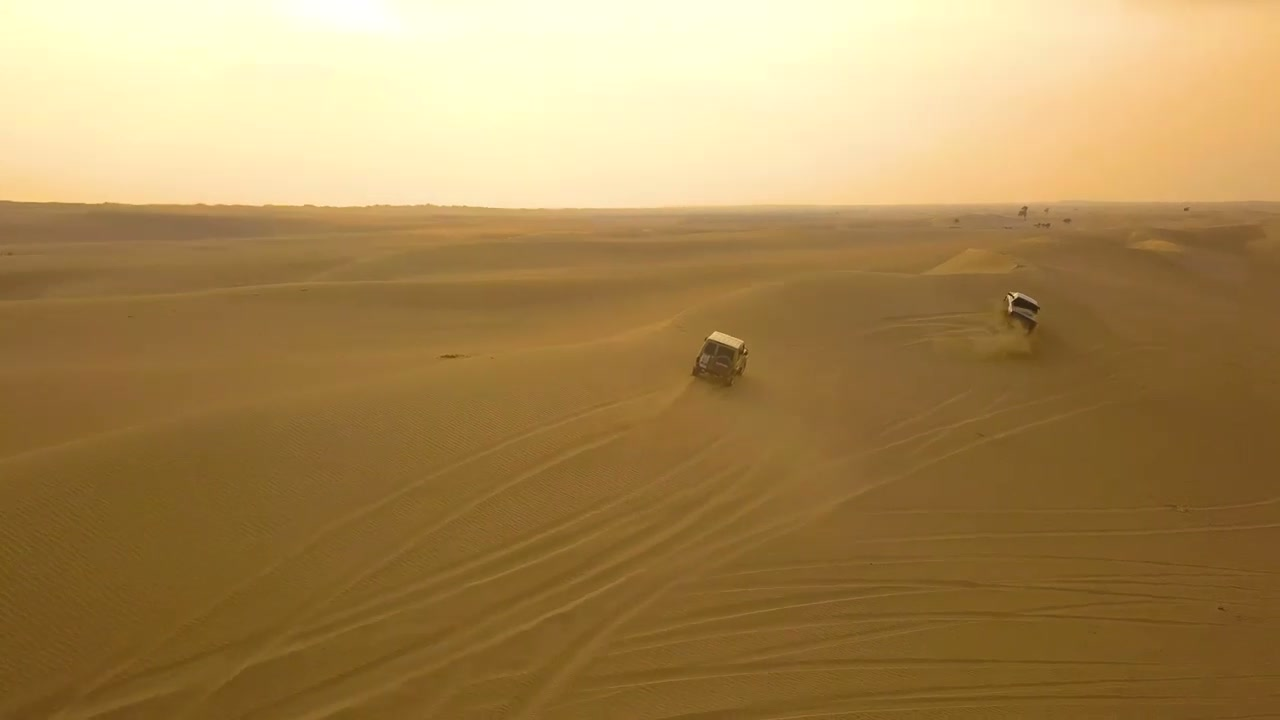vehicle_track: (51, 388, 668, 719), (259, 475, 736, 716), (257, 480, 738, 715), (293, 439, 722, 641), (509, 490, 777, 719), (709, 445, 968, 561), (612, 610, 987, 655), (707, 552, 1279, 579)
